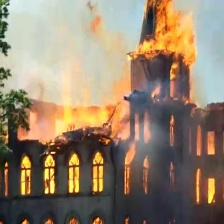fire: (12, 70, 127, 202), (130, 1, 203, 97)
